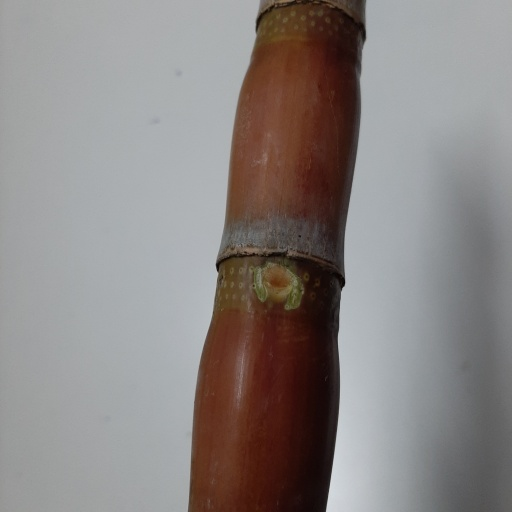Damage_Bud: (256, 263, 305, 302)
